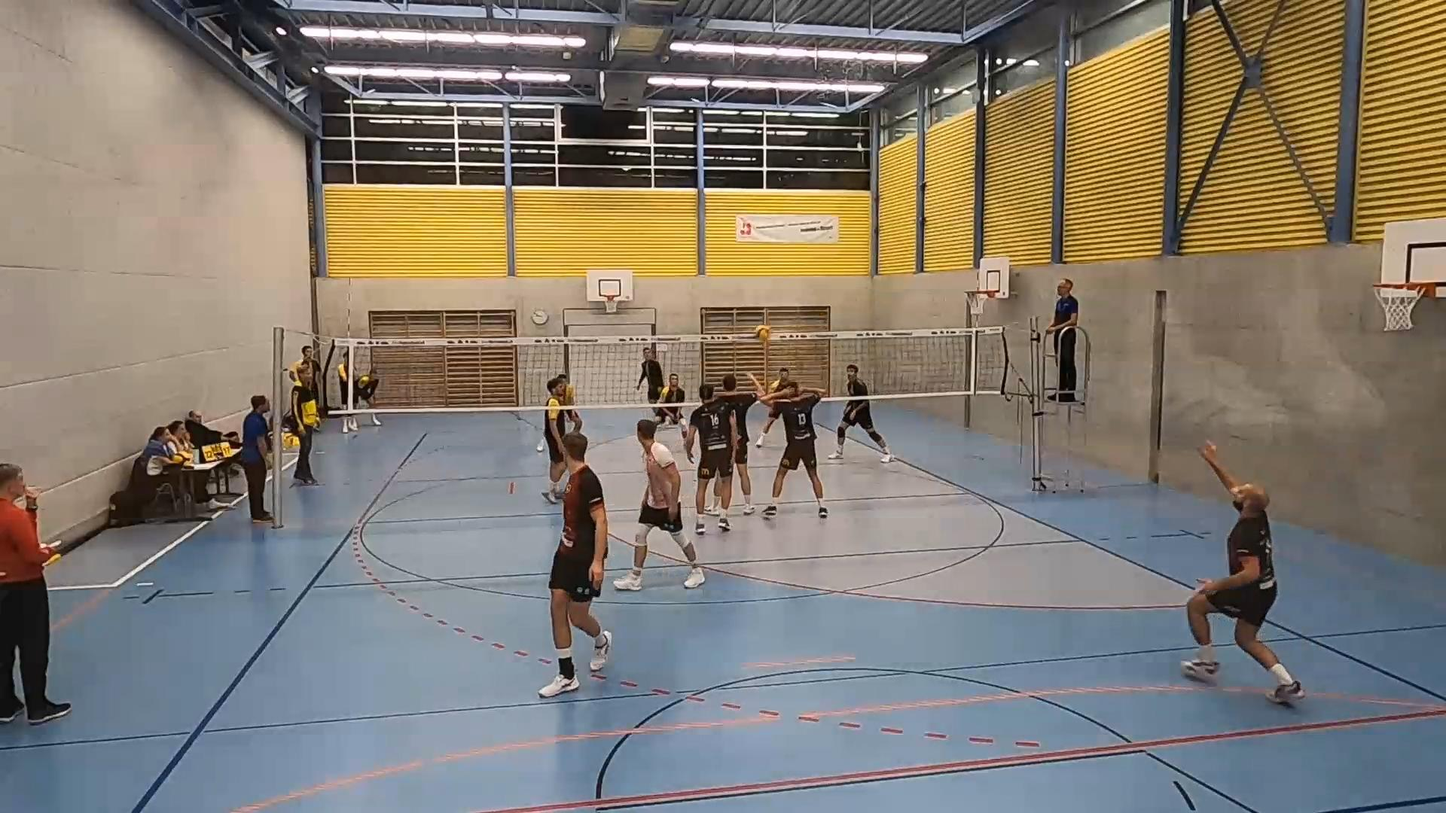Player: (1182, 442, 1304, 704), (538, 431, 612, 697), (613, 419, 704, 590), (753, 378, 827, 519), (684, 383, 737, 534), (828, 364, 893, 463), (718, 373, 757, 515), (542, 377, 567, 504), (635, 347, 664, 403), (755, 406, 779, 447), (658, 373, 685, 404), (554, 373, 575, 406)
ball: (757, 324, 776, 337)
